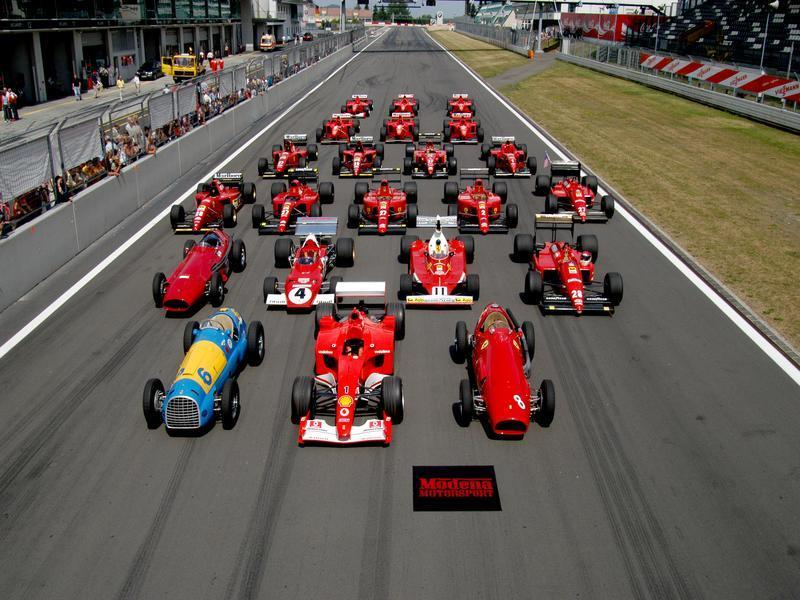f1: (275, 281, 412, 448), (510, 211, 641, 323), (396, 199, 487, 328), (536, 156, 618, 227), (172, 167, 254, 234), (446, 165, 521, 238), (352, 168, 417, 249)
